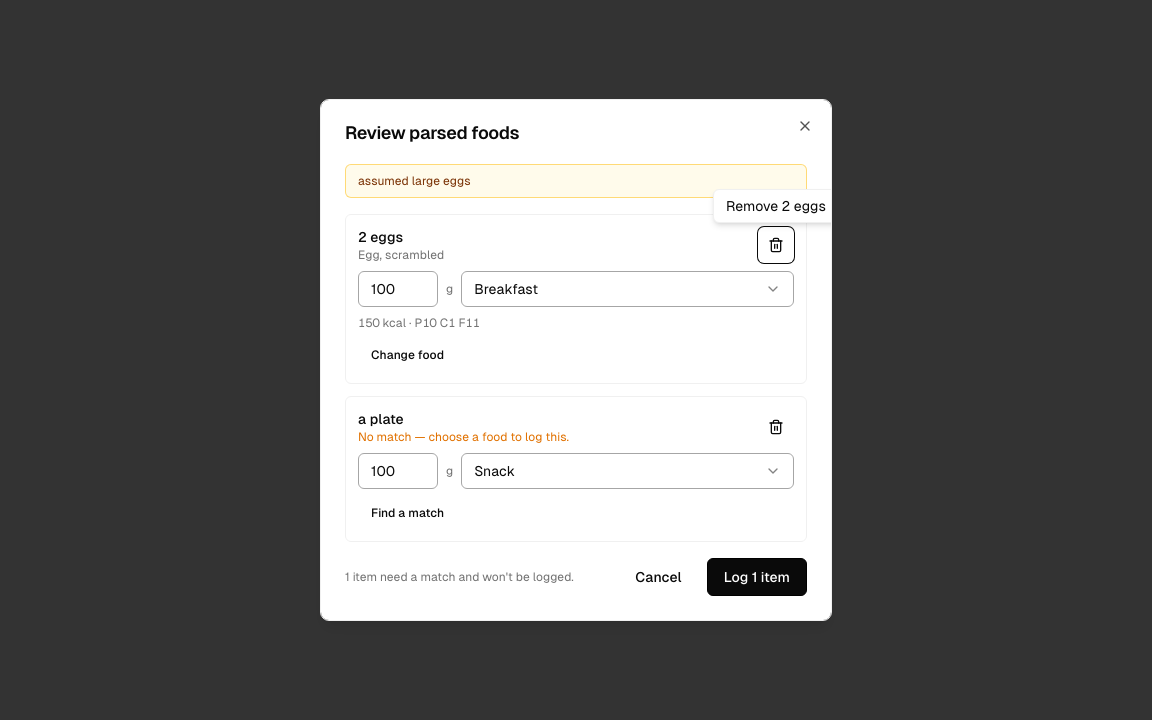
ParsedMealReviewSheet › removing the matched row disables logging
Click the button with test id "meal-review-remove-0": (776, 245) [758,227,794,263]
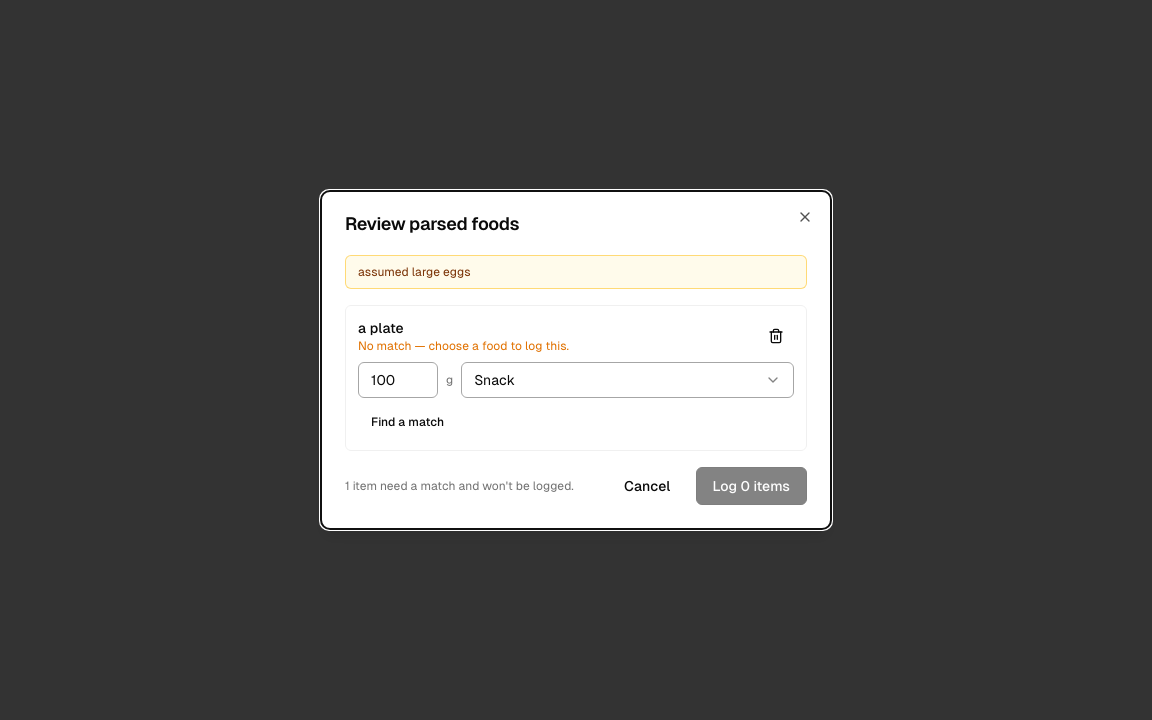
expect the button with test id "button-log-meal-batch" is disabled: met, box [696,467,807,505]
